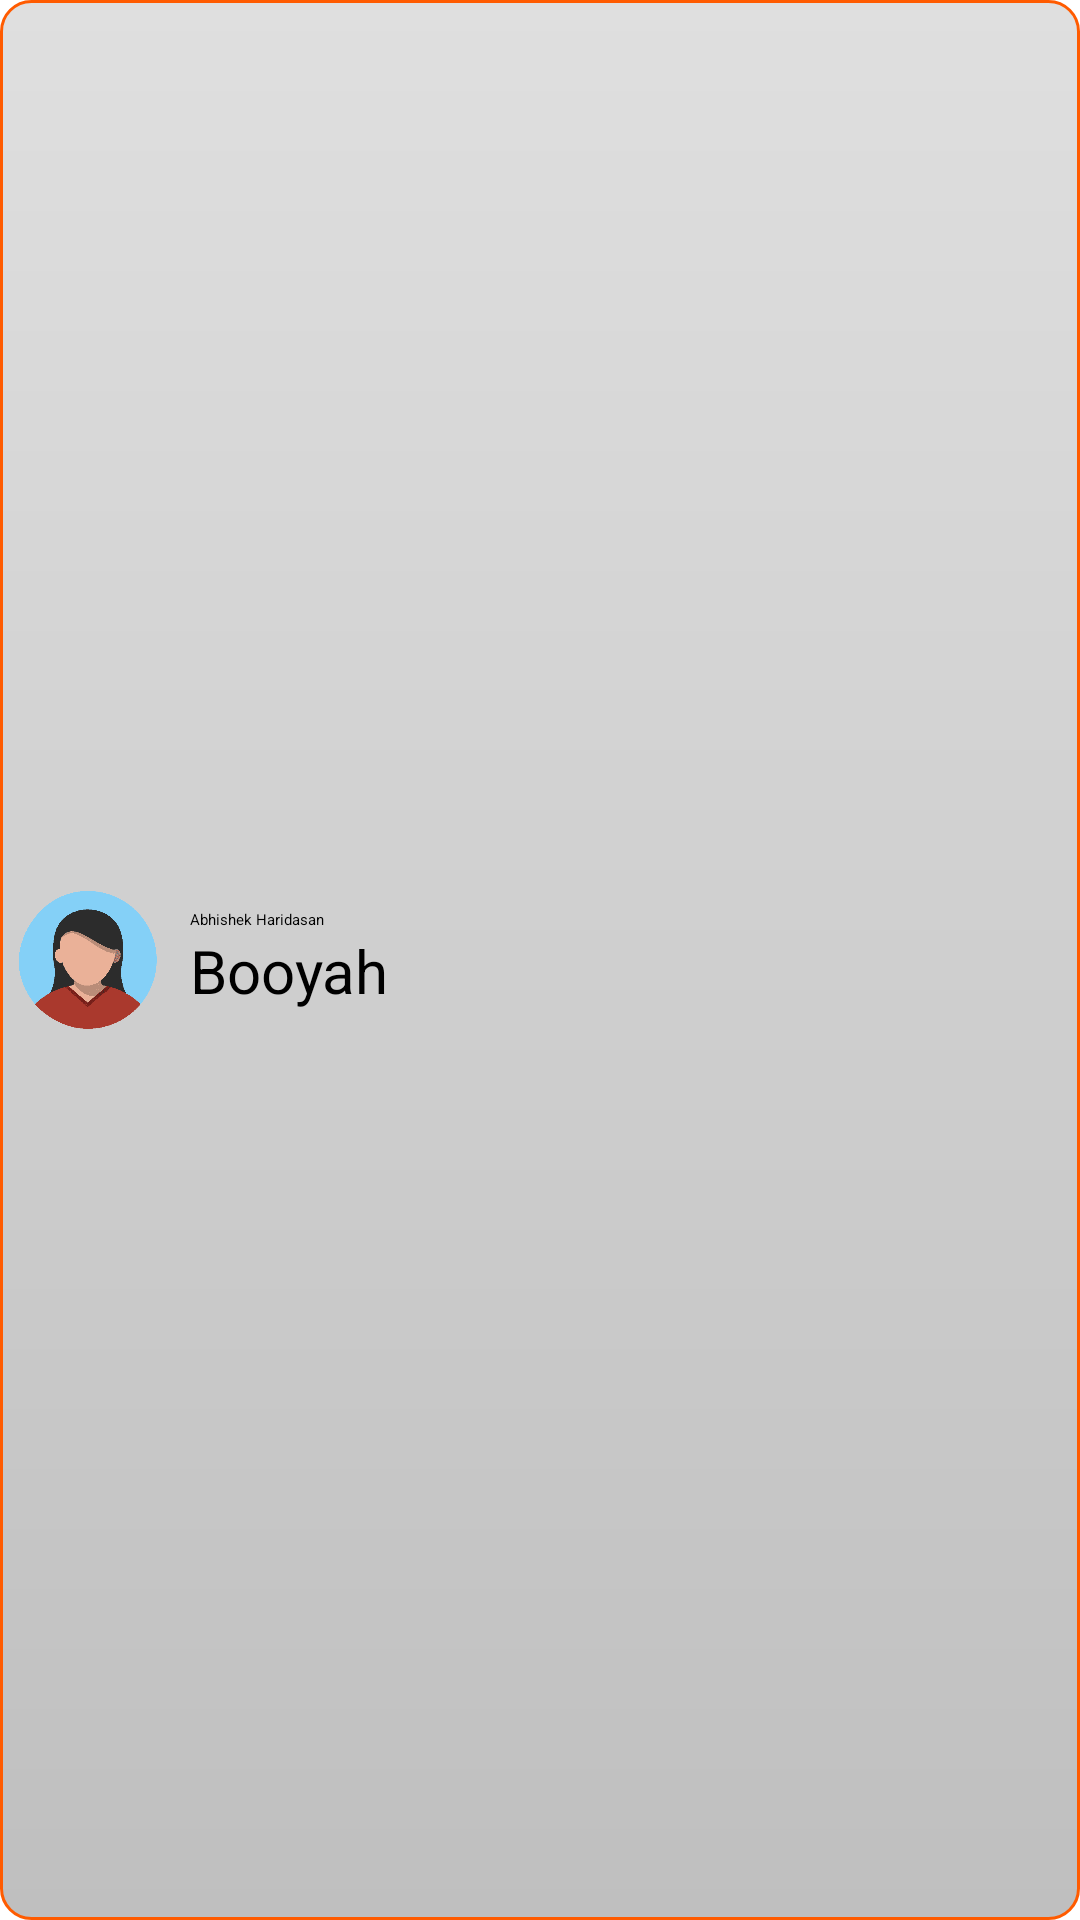

Point at icon controls on the screen. Image size 1080*1920, points as [x,y].
user: [88,960]
